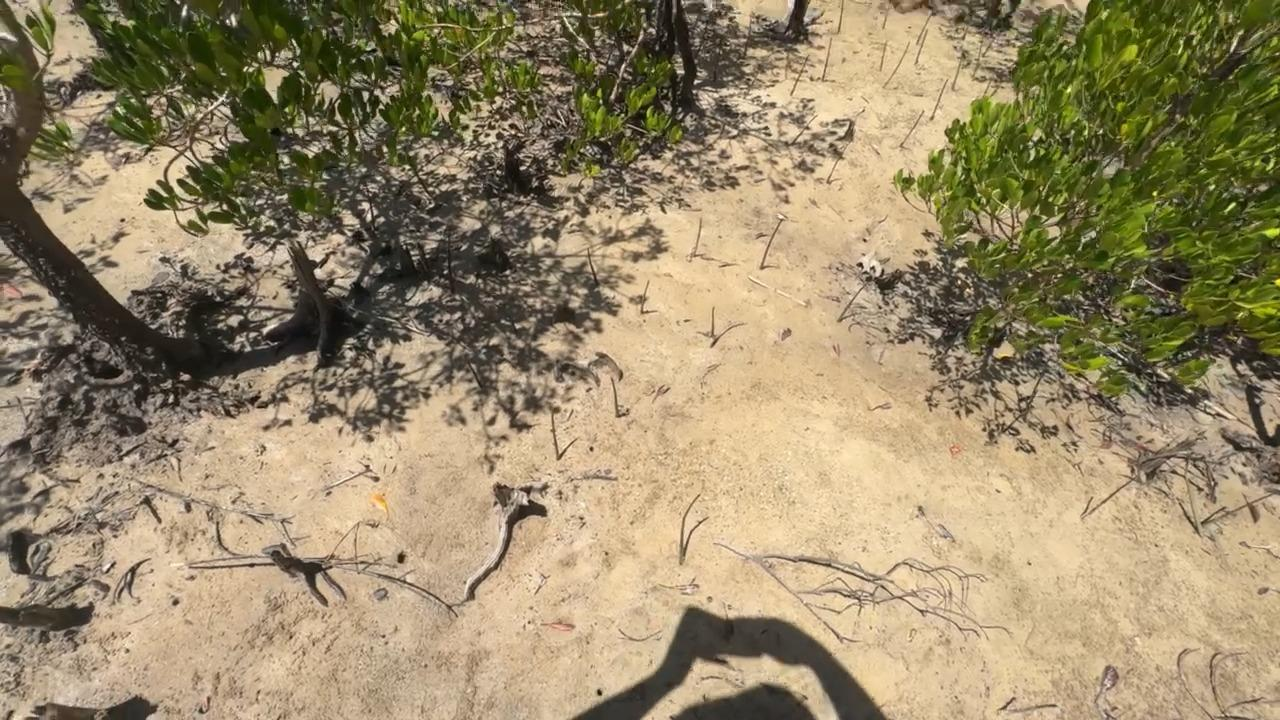Tree: (678, 493, 701, 565), (758, 218, 785, 269), (882, 41, 910, 88), (836, 283, 868, 322), (825, 143, 850, 184), (899, 110, 926, 147), (789, 114, 819, 145), (929, 78, 949, 121), (790, 54, 810, 95), (915, 13, 933, 44), (914, 28, 929, 65), (1200, 506, 1228, 525), (690, 217, 703, 256), (550, 408, 559, 461), (971, 39, 983, 77), (822, 37, 832, 82), (714, 36, 724, 78), (610, 376, 620, 417), (447, 242, 455, 293), (587, 247, 598, 284), (641, 279, 651, 313), (879, 40, 889, 72), (951, 61, 962, 90), (1079, 496, 1094, 517), (996, 696, 1016, 711), (983, 35, 997, 56), (881, 0, 891, 29), (745, 17, 752, 57), (837, 0, 845, 33), (134, 495, 150, 508), (982, 80, 993, 98), (783, 54, 790, 79), (711, 307, 715, 336)
